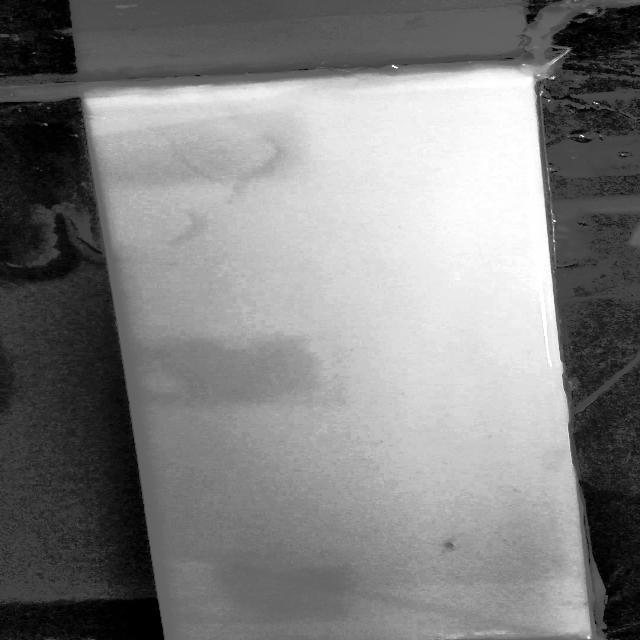shrimp: (432, 537, 468, 555)
